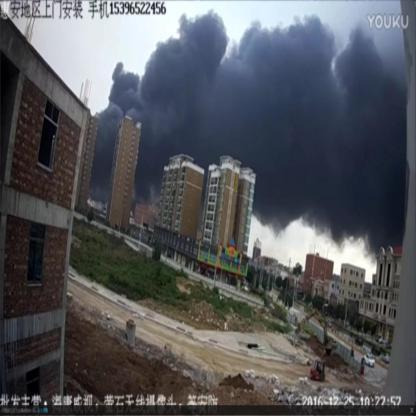smoke: (215, 48, 406, 160), (255, 162, 408, 243), (144, 48, 214, 162), (243, 18, 371, 48), (163, 13, 230, 49), (110, 60, 141, 112), (99, 106, 117, 172)
